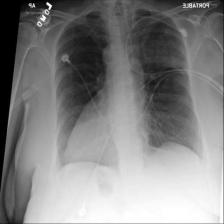normal: (52, 4, 210, 171)
